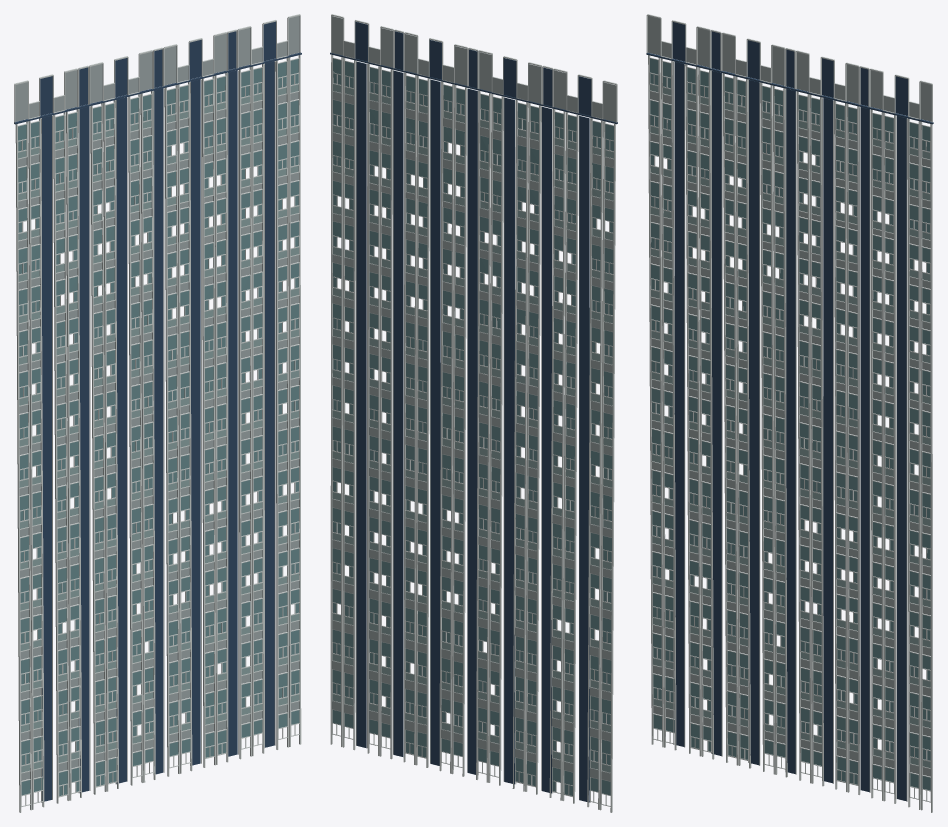
Rendered from light.glb.
3 views of the same model, side by side, from view 1: azimuth 30°, elevation 25°; view 2: azimuth 150°, elevation 25°; view 3: azimuth 330°, elevation 25° (orthographic).
Visible parts, largest first — view 1: B01_C01_main_frame, B01_C01_upper_fixed_pane, Blue_strip_1, B01_C01_gray_spandrel, B01_C01_neutral_lower_surface; view 2: B01_C01_main_frame, Blue_strip_1, B01_C01_upper_fixed_pane, B01_C01_gray_spandrel, B01_C01_neutral_lower_surface; view 3: B01_C01_main_frame, Blue_strip_1, B01_C01_upper_fixed_pane, B01_C01_gray_spandrel, B01_C01_neutral_lower_surface.
Boxes of the visible parts, box(x1,y1,x2,y2) form: B01_C01_main_frame: box(14, 14, 301, 812); B01_C01_upper_fixed_pane: box(18, 59, 299, 795); Blue_strip_1: box(14, 21, 301, 801); B01_C01_gray_spandrel: box(15, 16, 299, 780); B01_C01_neutral_lower_surface: box(18, 84, 299, 772); B01_C01_main_frame: box(330, 14, 617, 812); Blue_strip_1: box(330, 21, 617, 802); B01_C01_upper_fixed_pane: box(332, 58, 613, 795); B01_C01_gray_spandrel: box(331, 16, 616, 781); B01_C01_neutral_lower_surface: box(332, 84, 613, 772); B01_C01_main_frame: box(646, 14, 932, 812); Blue_strip_1: box(646, 22, 933, 801); B01_C01_upper_fixed_pane: box(650, 58, 930, 790); B01_C01_gray_spandrel: box(648, 16, 931, 776); B01_C01_neutral_lower_surface: box(650, 84, 930, 768).
Size of the model in its own units: 16.01 by 38.94 by 0.1086.
